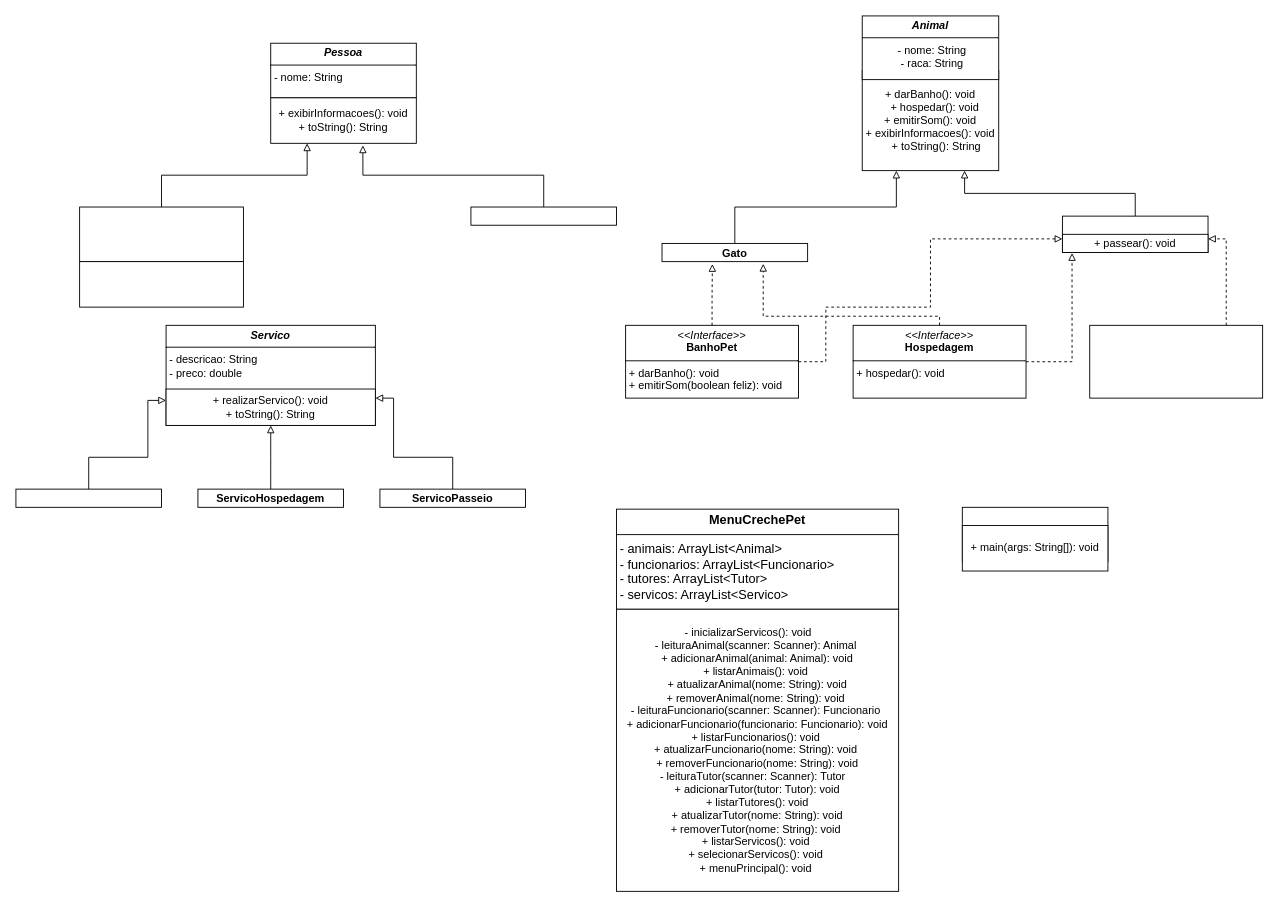
Image size: 1279x907. Some labels were removed from this diagram. The box of each missing label's shape, as (x1, y1, x2, y2) in pixels:
+ exibirInformacoes(String turno): void: (79, 261, 243, 307)
<<Interface>> PasseioPet + passear(): void + emitirSom(int vezes): void: (1089, 324, 1263, 398)
Cachorro - nome: String - idade: int: (1062, 215, 1208, 253)
Funcionario - cargo: String - turno: String: (79, 206, 243, 262)
Main - nome: String: (961, 506, 1108, 562)
ServicoBanho - tipoPet: String: (15, 488, 162, 507)
Tutor: (470, 206, 617, 225)
